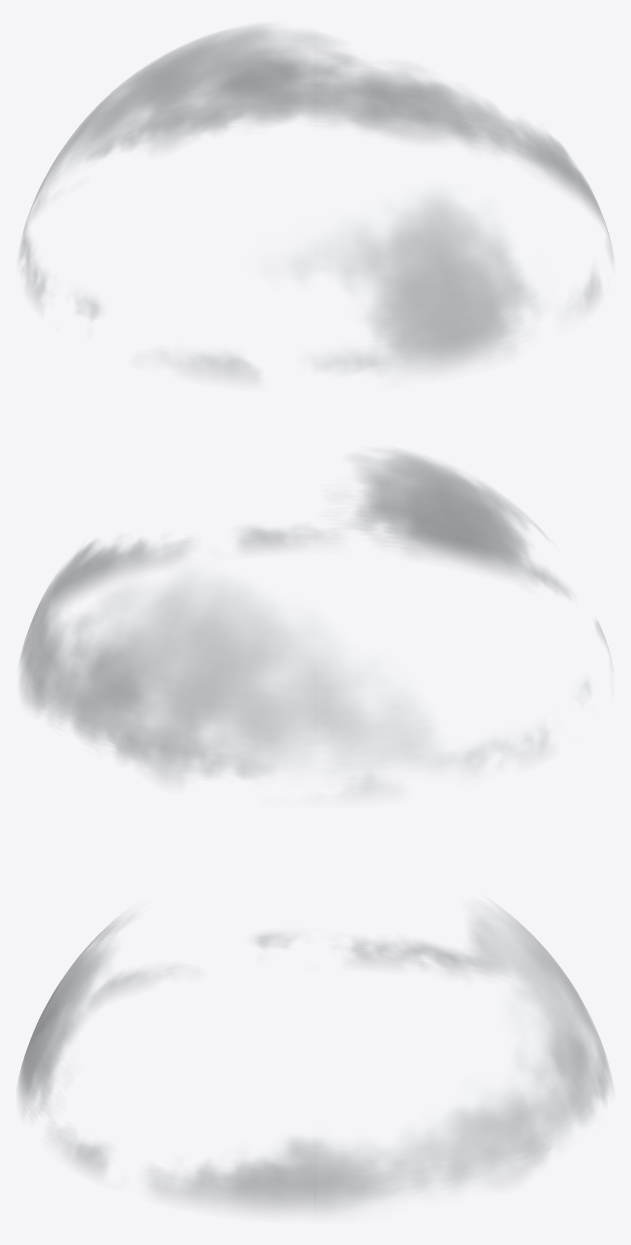
Rendered from cloudsky_day.glb.
The picture shows the model from 3 angles, top to bottom: view 1: azimuth 30°, elevation 25°; view 2: azimuth 150°, elevation 25°; view 3: azimuth 270°, elevation 25°; orthographic projection.
Size of the model in its own units: 23.65 by 9.96 by 23.65.
Materials: 1 (1 with a texture image).
